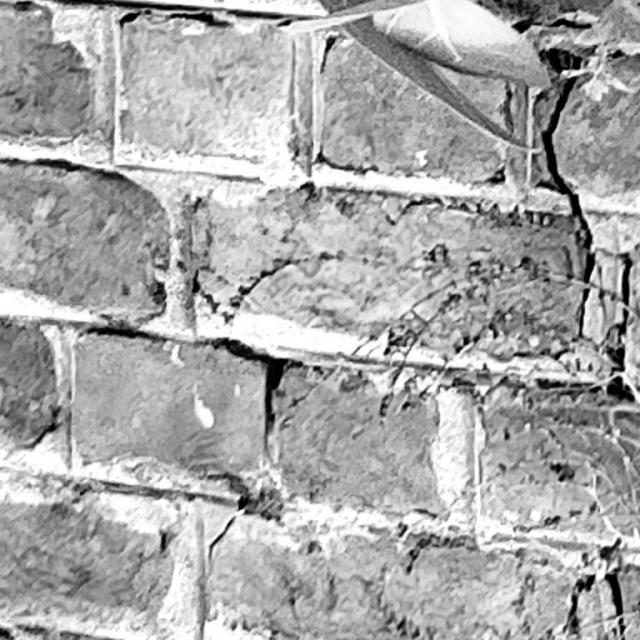crack: (541, 1, 595, 337), (563, 572, 624, 640)
